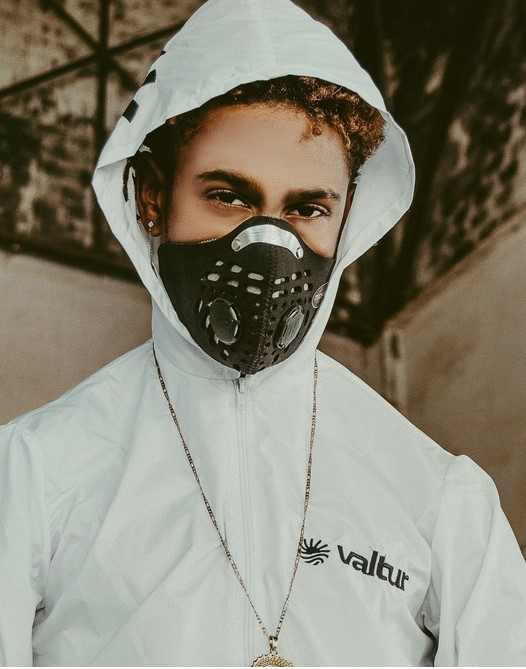face_with_mask: (92, 2, 413, 374)
